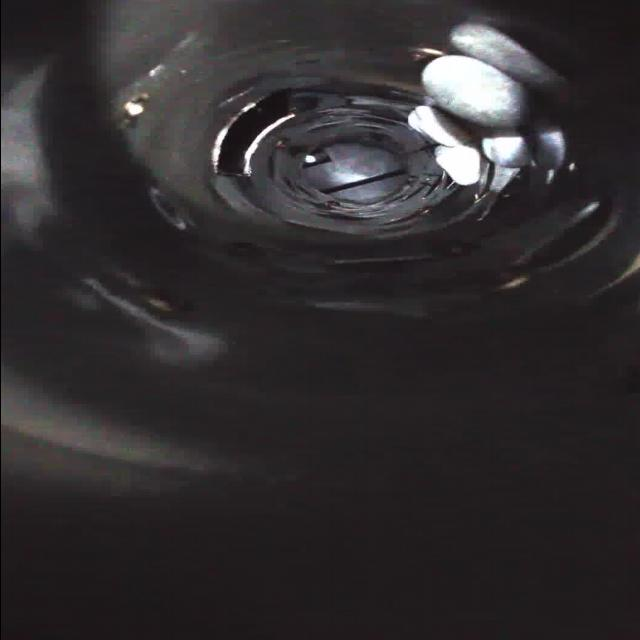crack: (374, 206, 436, 242), (414, 162, 467, 203), (311, 206, 378, 232), (351, 103, 408, 131), (299, 103, 349, 133), (258, 144, 284, 184), (410, 128, 442, 160), (276, 180, 314, 204)
hole: (204, 85, 296, 179)
